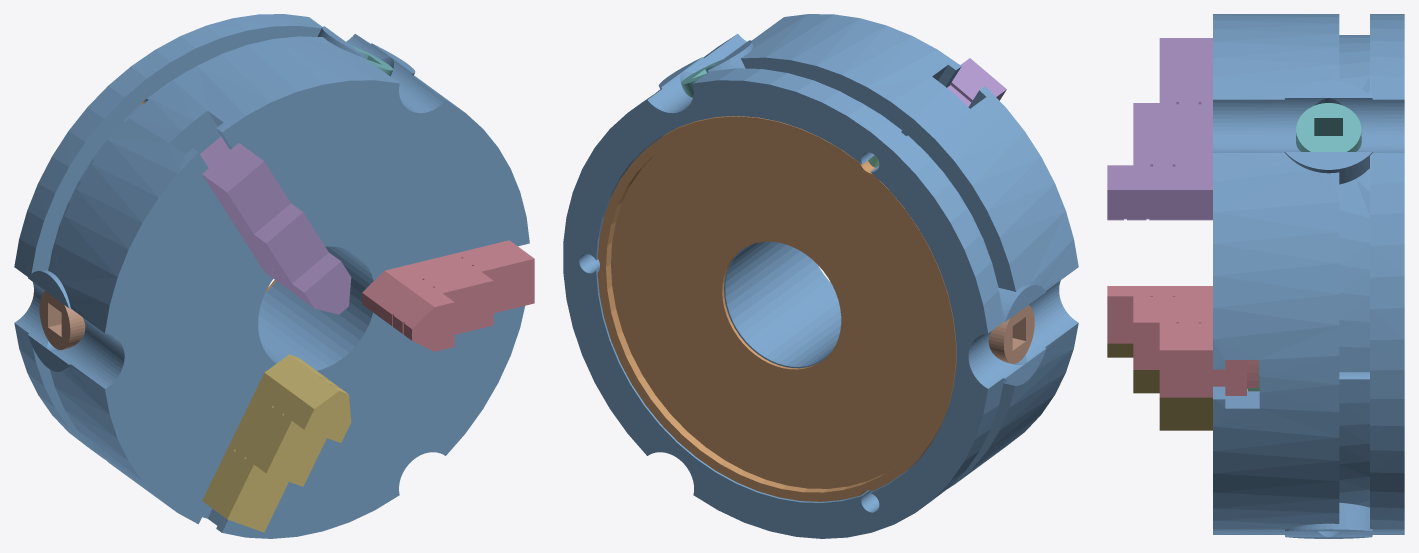
3 renders of one model, left to right at view 1: azimuth 30°, elevation 25°; view 2: azimuth 150°, elevation 25°; view 3: azimuth 270°, elevation 25°, orthographic. The views are drawn at different scales.
Parts seen in each view (by area): view 1: solid_0_0, solid_5_0, solid_3_0, solid_4_0, solid_7_0; view 2: solid_0_0, solid_1_0, solid_7_0, solid_4_0; view 3: solid_0_0, solid_4_0, solid_3_0, solid_5_0, solid_6_0.
Boxes of the visible parts, bbox=[...] form: solid_0_0: bbox=[14, 14, 529, 538]; solid_5_0: bbox=[202, 354, 351, 532]; solid_3_0: bbox=[362, 240, 534, 351]; solid_4_0: bbox=[200, 136, 351, 314]; solid_7_0: bbox=[39, 291, 85, 349]; solid_0_0: bbox=[563, 14, 1078, 538]; solid_1_0: bbox=[597, 116, 956, 501]; solid_7_0: bbox=[988, 305, 1034, 363]; solid_4_0: bbox=[947, 58, 1006, 106]; solid_0_0: bbox=[1213, 14, 1404, 538]; solid_4_0: bbox=[1107, 38, 1212, 220]; solid_3_0: bbox=[1107, 286, 1258, 397]; solid_5_0: bbox=[1107, 343, 1247, 430]; solid_6_0: bbox=[1296, 103, 1361, 151].
Size of the model in its own units: 200 by 200 by 114.
